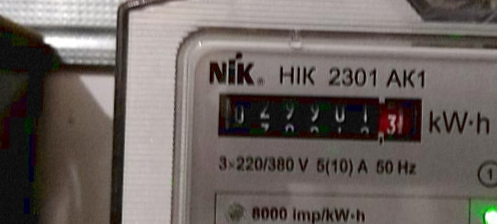0: (333, 99, 348, 124), (232, 102, 247, 124)
1: (360, 99, 372, 124)
2: (258, 97, 273, 120)
3: (384, 112, 400, 135)
9: (309, 100, 321, 123), (284, 98, 296, 119)
screen: (210, 84, 433, 152)
